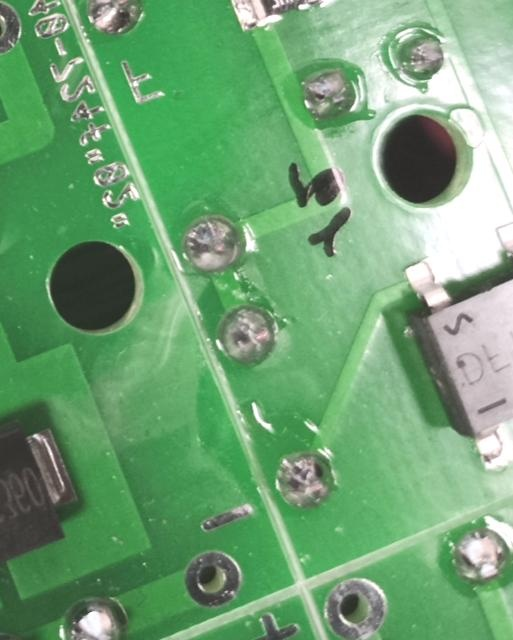ic: (377, 198, 513, 486)
